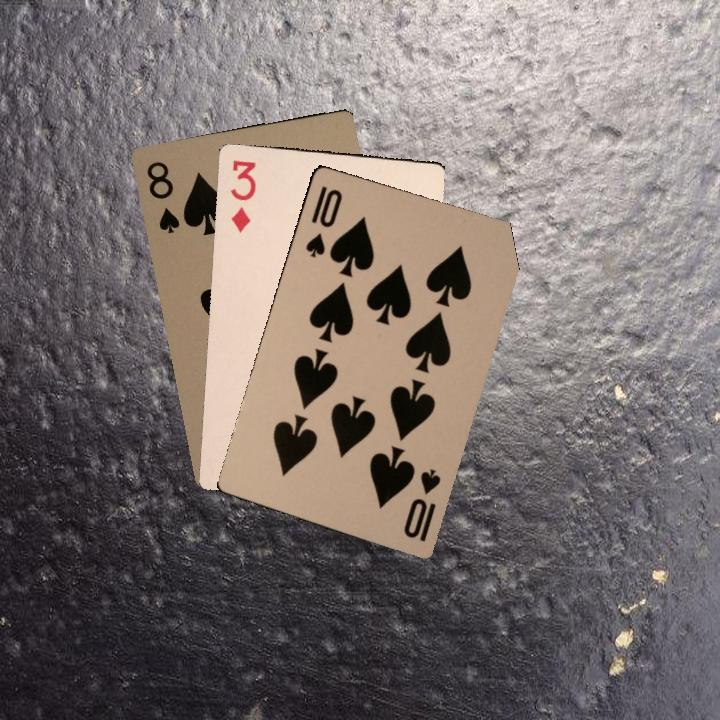10s: (399, 465, 444, 544), (301, 182, 345, 260)
3d: (226, 156, 259, 236)
8s: (143, 157, 182, 236)
